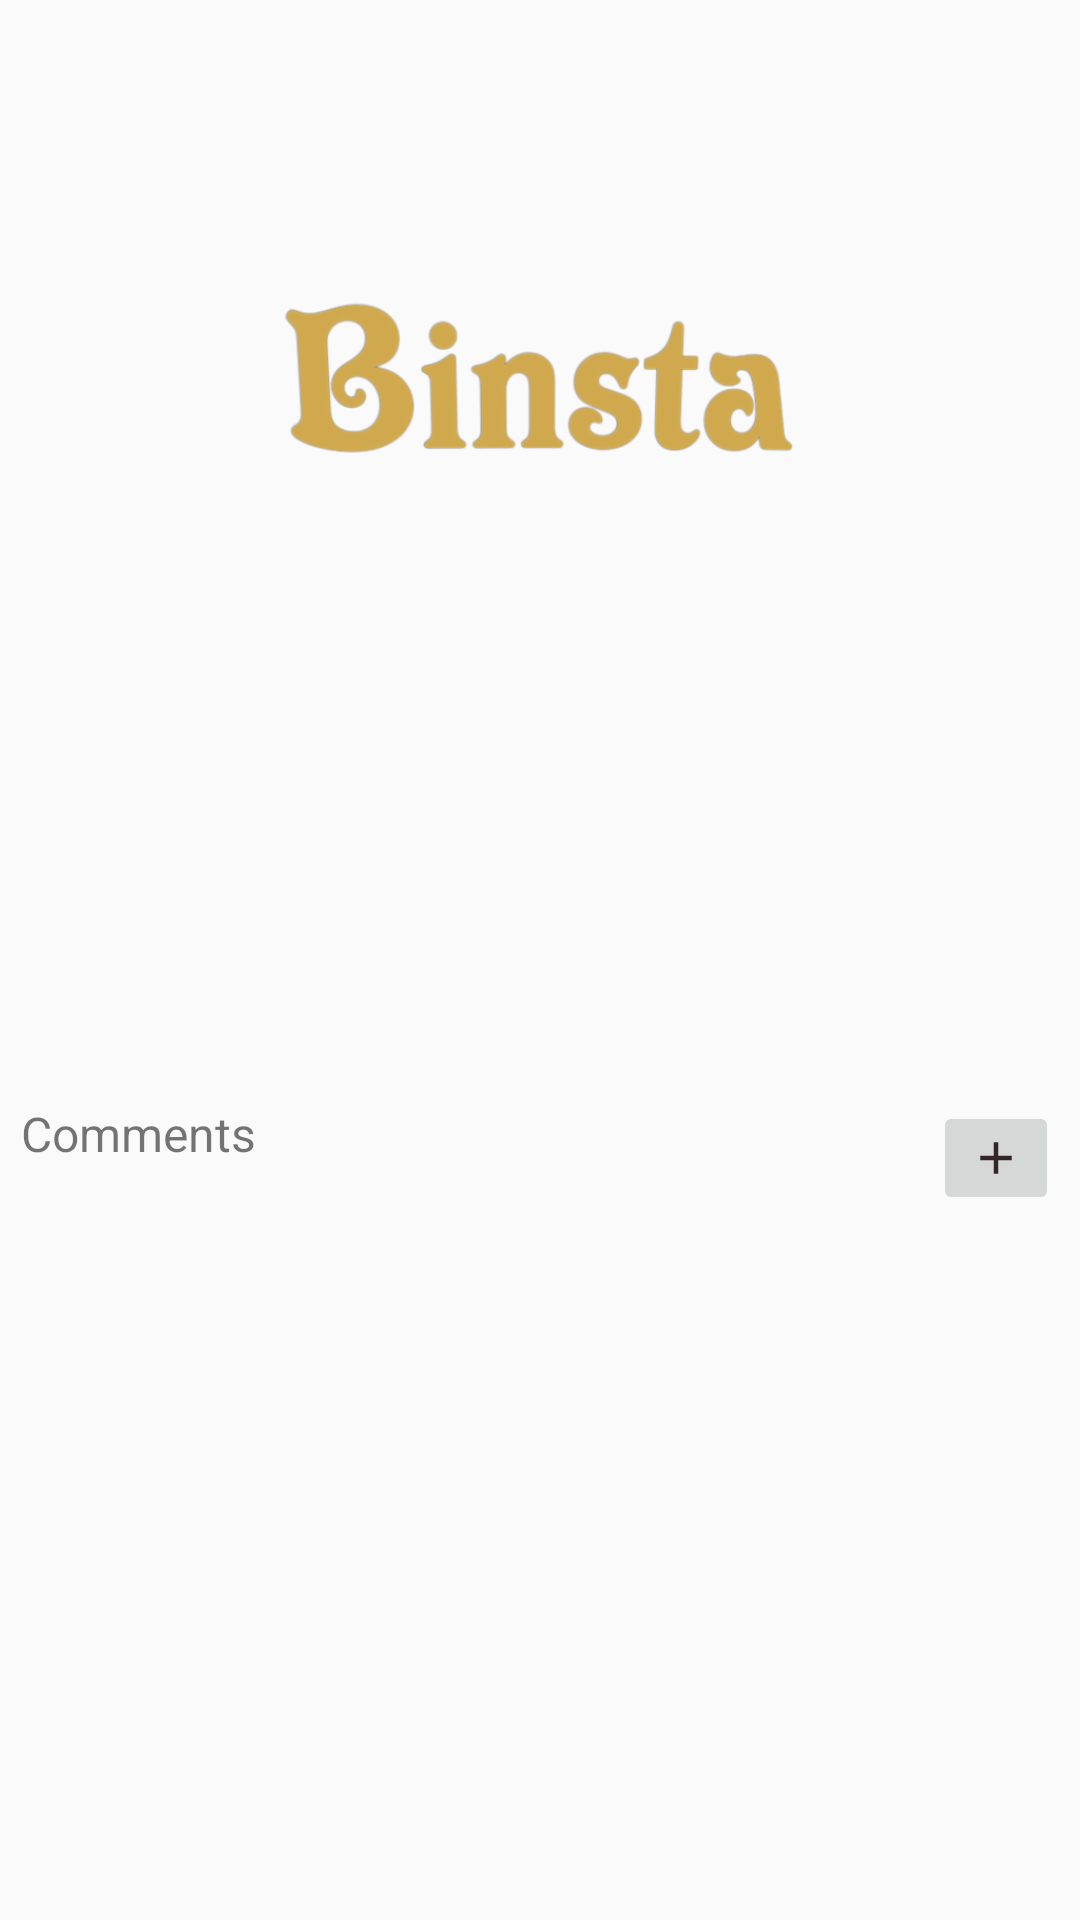

Named icons in this screenshot (1080×1920) and their bounding boxes, detection(x1, y1, x2, y2):
add: detection(945, 1119, 1047, 1197)
